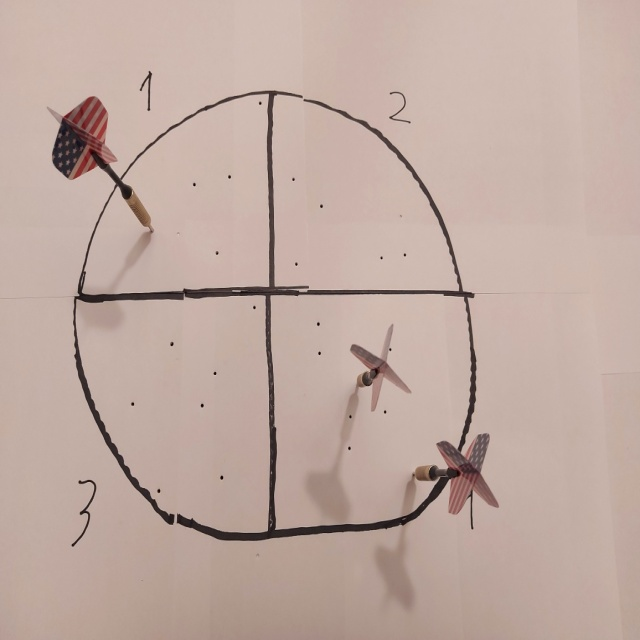Dart: (42, 91, 163, 241), (407, 427, 505, 519), (342, 320, 413, 408)
